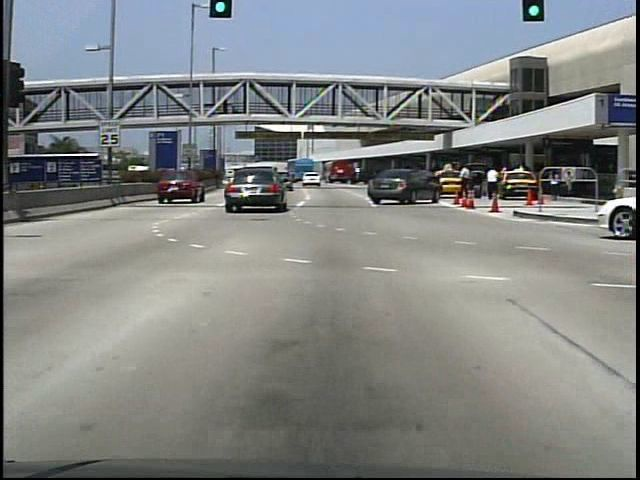person: (484, 165, 503, 203), (459, 166, 476, 205), (546, 168, 562, 204), (221, 96, 231, 117)
